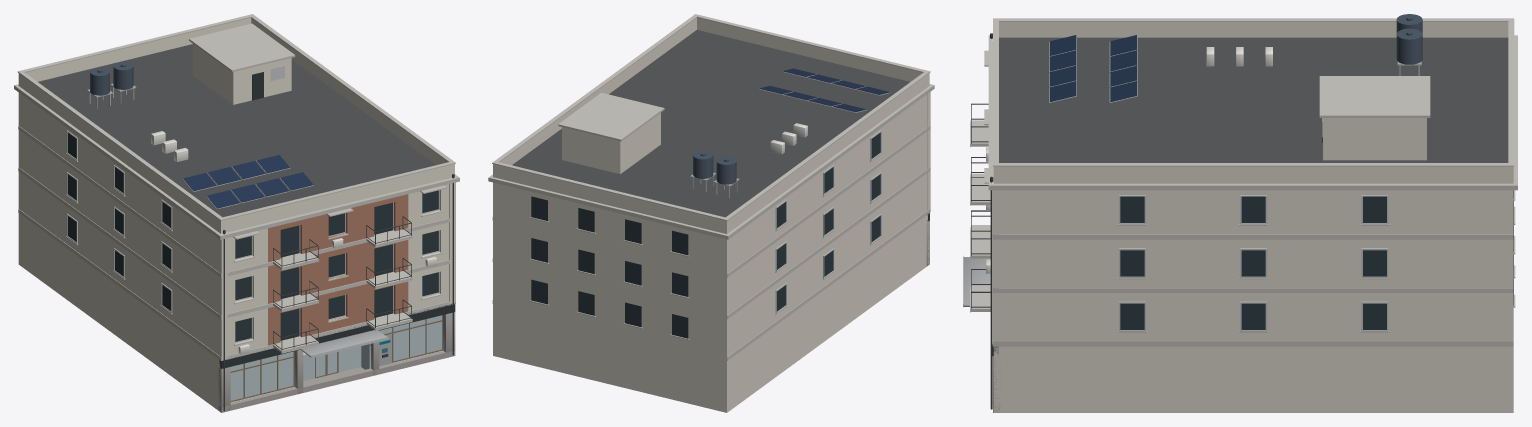
File: hero-bank-lod1.glb
3 renders of one model, left to right at view 1: azimuth 30°, elevation 25°; view 2: azimuth 150°, elevation 25°; view 3: azimuth 270°, elevation 25°, orthographic. The views are drawn at different scales.
Parts seen in each view (by area): view 1: SM_heroBank_lod1; view 2: SM_heroBank_lod1; view 3: SM_heroBank_lod1.
Boxes of the visible parts, x1,y1,x2,y2 form: SM_heroBank_lod1: (14,14,459,412); SM_heroBank_lod1: (488,14,934,412); SM_heroBank_lod1: (963,14,1517,412).
Size of the model in its own units: 20.5 by 17.63 by 32.02.
